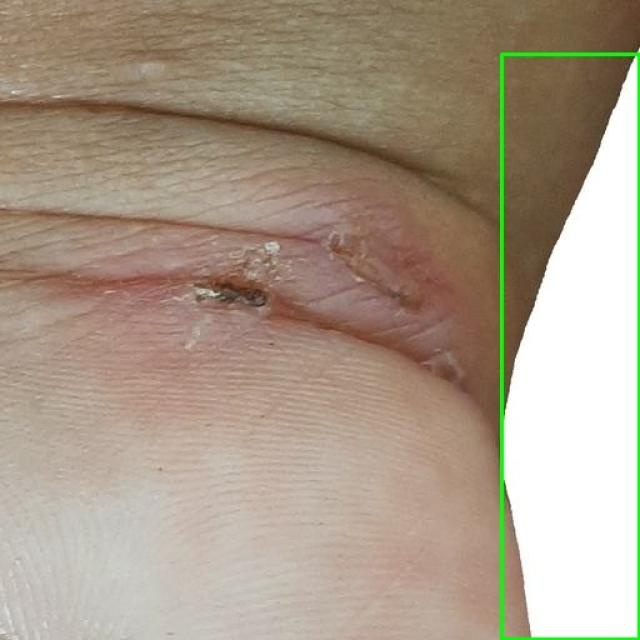Scabies: (501, 54, 639, 639)
